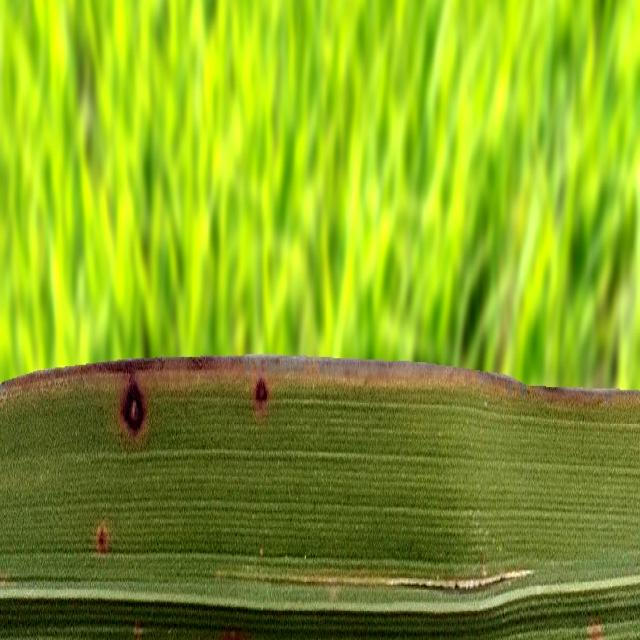LEAF BLAST: (121, 377, 146, 435), (254, 375, 268, 406), (221, 631, 247, 640)
